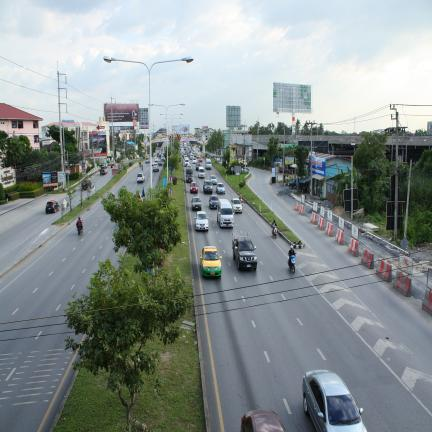car: (195, 211, 208, 230), (46, 200, 59, 214), (231, 198, 242, 212), (191, 197, 202, 210), (209, 195, 218, 208), (216, 183, 225, 194), (190, 182, 198, 193), (137, 172, 145, 182), (210, 175, 217, 184), (153, 163, 159, 172), (157, 160, 163, 166), (145, 158, 150, 164), (110, 163, 115, 168), (161, 156, 165, 162), (154, 157, 158, 162), (157, 152, 160, 157)
motorbike: (288, 254, 295, 273), (77, 224, 83, 235), (272, 226, 277, 238)
pickup: (232, 233, 257, 270)
taxi: (200, 246, 221, 276)
truck: (186, 168, 193, 182)
van: (217, 199, 233, 227), (206, 158, 212, 169)
